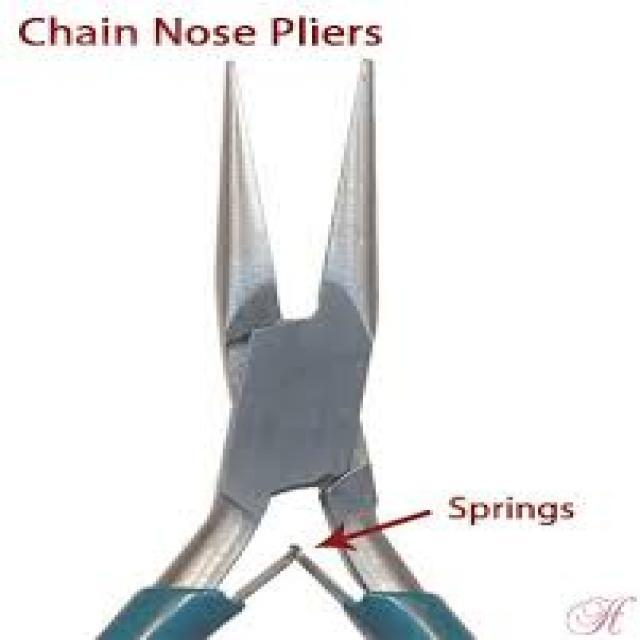pliers: (83, 50, 454, 634)
